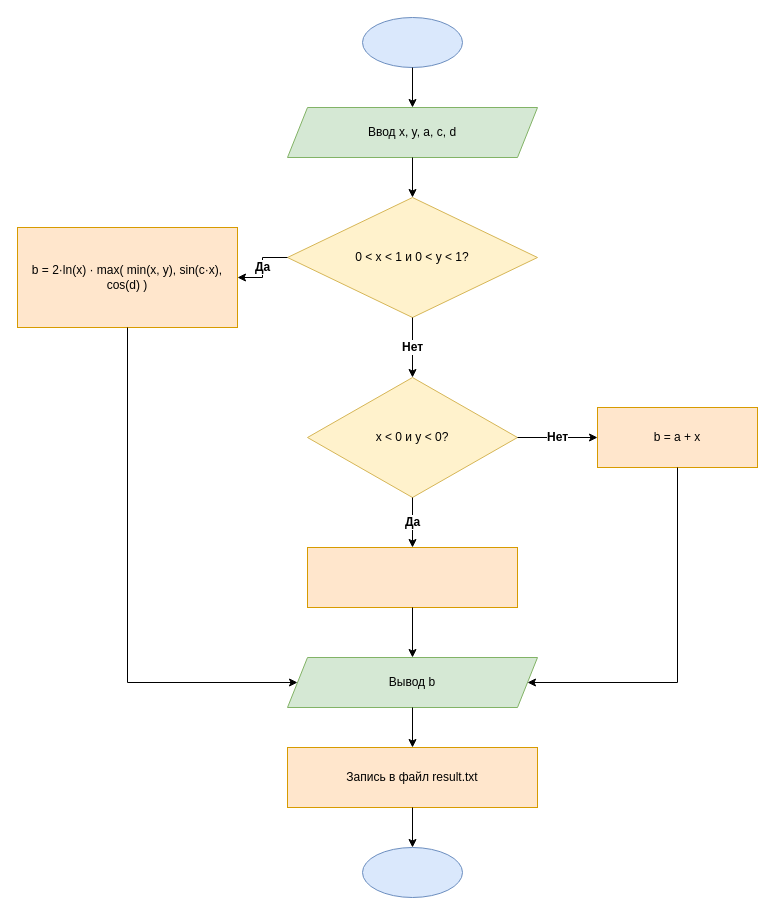
The diagram is 775 pixels wide and 915 high, and some of its shapes have lost their labels. Each missing label, with the box of its shape:
b = min( e^(x+1), y ): (306, 546, 518, 608)
Конец: (362, 846, 462, 898)
Начало: (362, 16, 462, 68)
